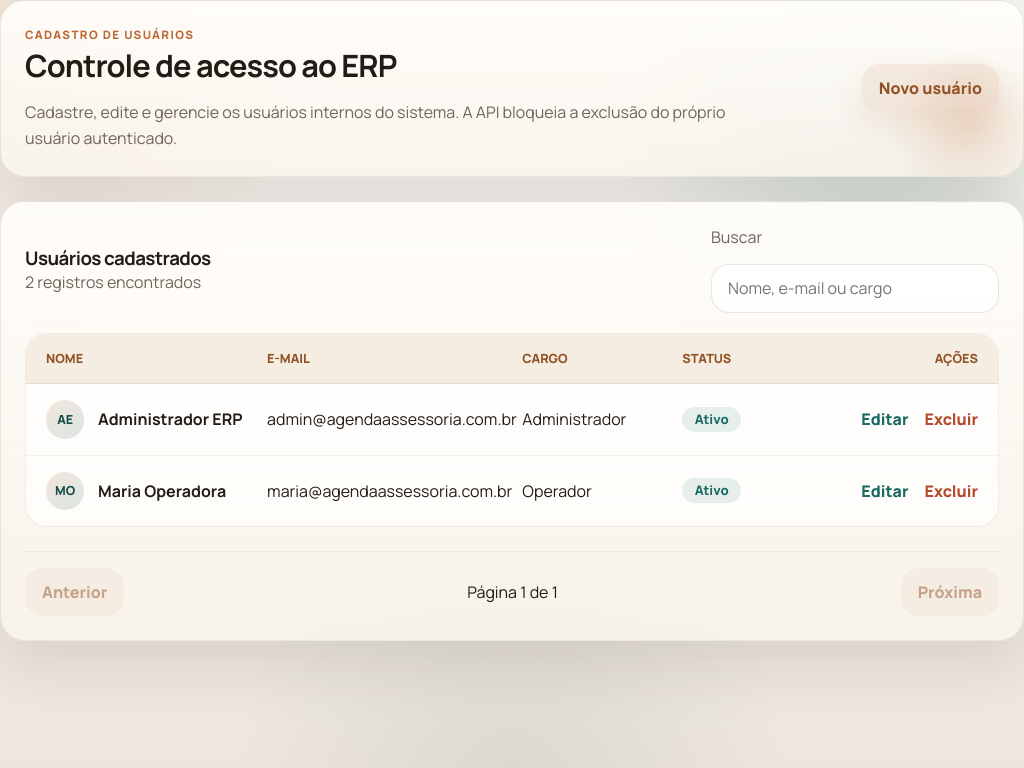
PaginaUsuariosComponent › abre o drawer ao iniciar um novo cadastro
This screenshot has width=1024, height=768.
Click the button "Novo usuário" at (930, 88), box [862, 64, 999, 112]
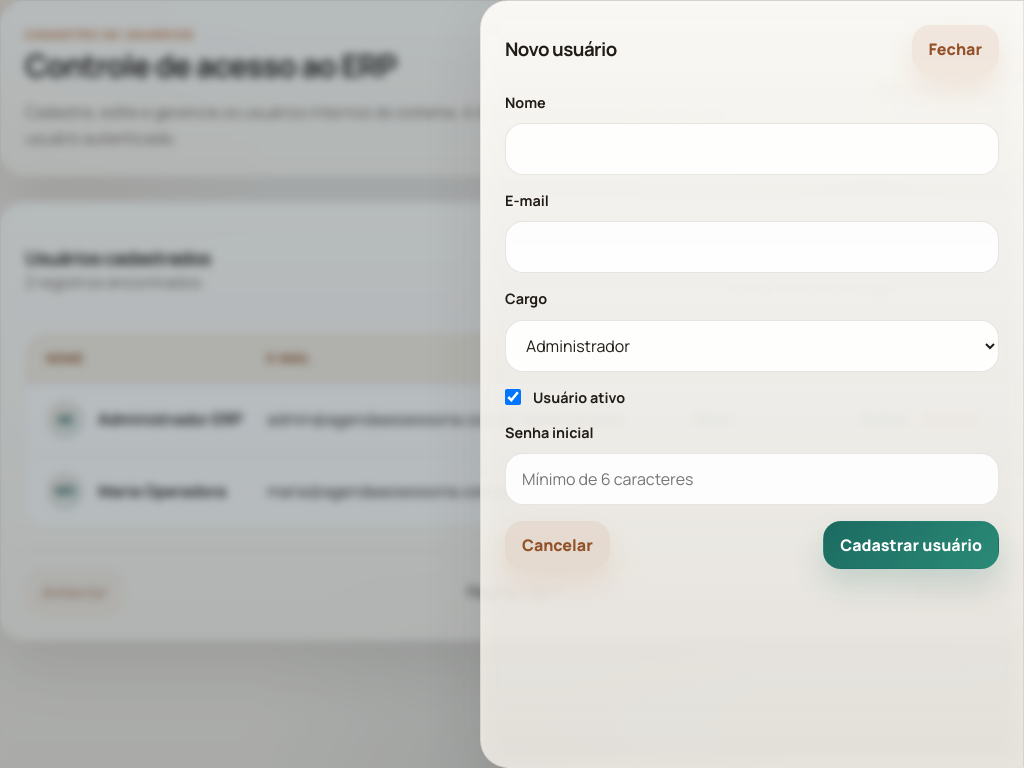
Now the dialog with class "ui-drawer" is shown, box [480, 0, 1023, 767]
